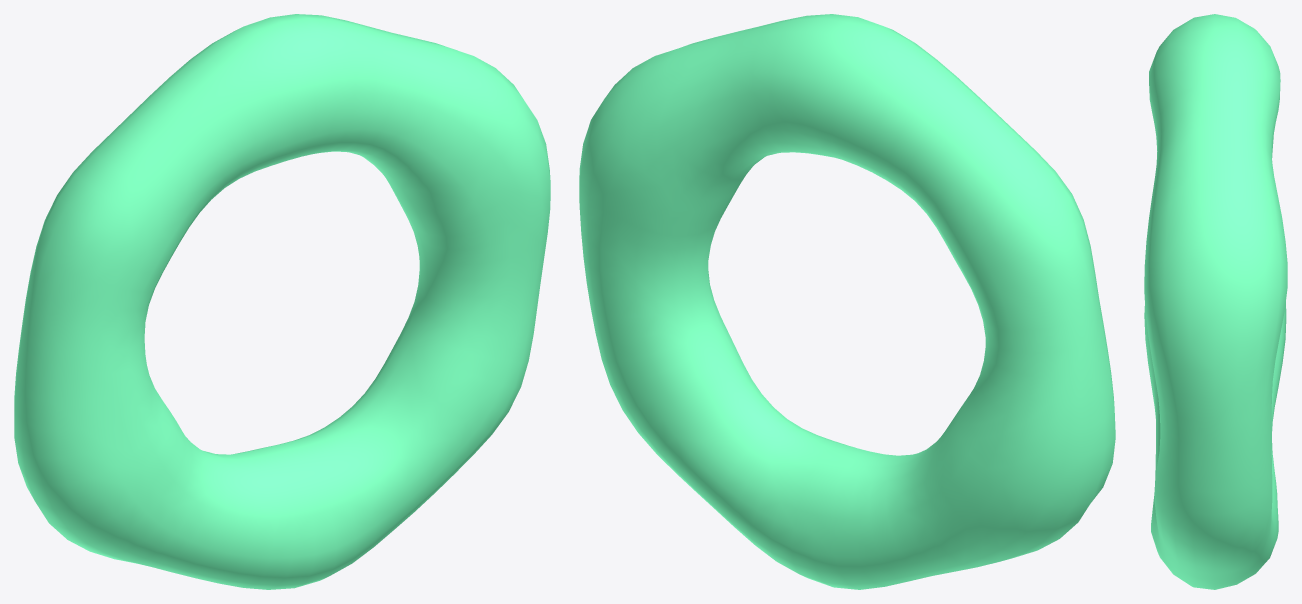
The model's file is s2_XO_enzyme.glb.
3 renders of one model, left to right at view 1: azimuth 30°, elevation 25°; view 2: azimuth 150°, elevation 25°; view 3: azimuth 270°, elevation 25°, orthographic. The views are drawn at different scales.
Parts seen in each view (by area): view 1: xo_ring; view 2: xo_ring; view 3: xo_ring.
Part boxes in pixels (x1,y1,x2,y2): xo_ring: [14, 14, 550, 589]; xo_ring: [579, 14, 1115, 589]; xo_ring: [1144, 14, 1287, 589].
Size of the model in its own units: 0.5227 by 0.5419 by 0.1288.
